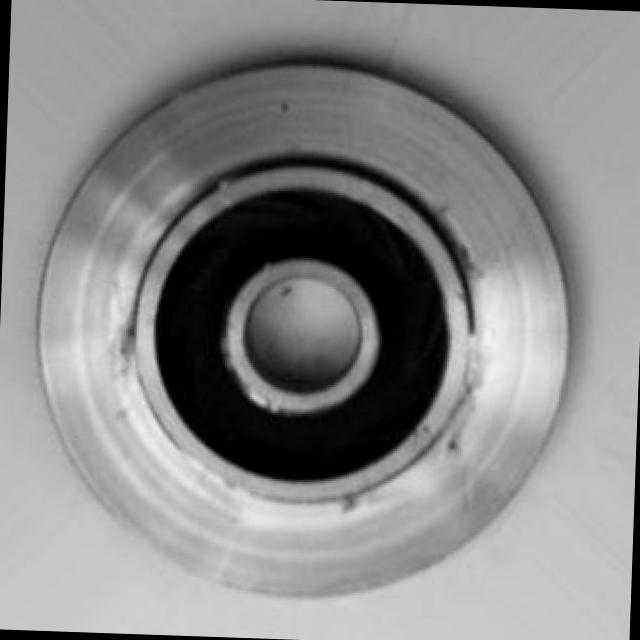Defect: (273, 98, 294, 116)
